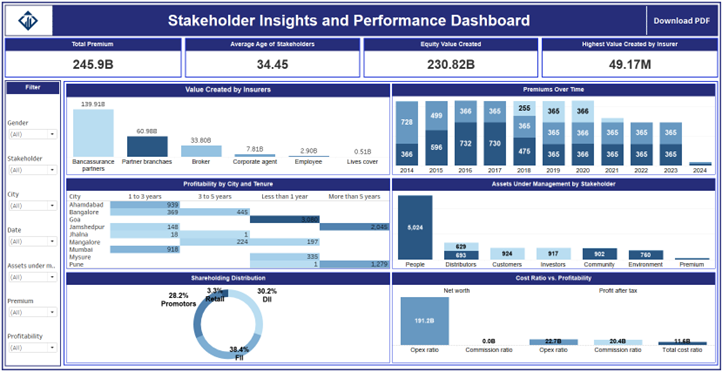

The dashboard page shown, as its layout file describes it:
{"tool":"tableau","page":{"name":"Stakeholder Insights and Performance Dashboard","canvas":[1000,1000],"units":"permille","ordinal":0},"visuals":[{"type":"image","param":"Image/Picture1.jpg","box":[10.3,21.2,72.4,79.9]},{"type":"text","box":[82.7,21.2,808.1,79.9]},{"type":"dashboard-object","box":[890.8,21.2,99,79.9]},{"type":"worksheet","title":"Total Premium","mark":"Automatic","box":[9.1,103.6,245.6,116.1]},{"type":"worksheet","title":"Average Age of Stakeholders","mark":"Automatic","box":[254.7,103.6,245.6,116.1]},{"type":"worksheet","title":"Equity Value Created","mark":"Automatic","box":[500.3,103.6,245.6,116.1]},{"type":"worksheet","title":"Highest Value Created by insurer","mark":"Automatic","box":[745.9,103.6,245,116.1]},{"type":"worksheet","title":"Filter","mark":"Automatic","box":[10.3,224.7,66.4,107.4]},{"type":"worksheet","title":"Value Created by Insurers ","mark":"Automatic","rows":["Value Created"],"cols":["Insurer"],"box":[82.7,227.2,452.6,268.4]},{"type":"worksheet","title":"Premiums Over Time","mark":"Bar","rows":["Date"],"cols":["Premium 1"],"box":[535.3,227.2,452,268.4]},{"type":"filter","title":"Filter","param":"[federated.1w5zwtn1e8jzkp101p4g912rpfut].[none:Assets under management:nk]","box":[10.3,332.1,66.4,107.4]},{"type":"filter","title":"Filter","param":"[federated.1w5zwtn1e8jzkp101p4g912rpfut].[none:Stakeholder:nk]","box":[10.3,439.4,66.4,107.4]},{"type":"worksheet","title":"Profitability by City and Tenure","mark":"Square","rows":["City"],"cols":["Policy tenuer"],"box":[82.7,501.9,452.6,250.9]},{"type":"worksheet","title":"Assets Under Management by Stakeholder","mark":"Automatic","rows":["Assets under management"],"cols":["Stakeholder"],"box":[535.3,501.9,452,250.9]},{"type":"filter","title":"Filter","param":"[federated.1w5zwtn1e8jzkp101p4g912rpfut].[none:Gender:nk]","box":[10.3,546.8,66.4,107.4]},{"type":"filter","title":"Filter","param":"[federated.1w5zwtn1e8jzkp101p4g912rpfut].[my:Date:ok]","box":[10.3,654.2,66.4,107.4]},{"type":"worksheet","title":"Shareholding Distribution","mark":"Pie","rows":["Calculation_334673798873460736","Calculation_334673798873460736"],"box":[82.7,757.8,452.6,216]},{"type":"worksheet","title":"Cost Ratio vs. Profitability","mark":"Automatic","rows":["Value Created"],"cols":["Profitability","Cost ratio"],"box":[535.3,757.8,452,216]},{"type":"filter","title":"Filter","param":"[federated.1w5zwtn1e8jzkp101p4g912rpfut].[none:Premium 1:nk]","box":[10.3,761.6,66.4,107.4]},{"type":"filter","title":"Filter","param":"[federated.1w5zwtn1e8jzkp101p4g912rpfut].[none:Profitability:nk]","box":[10.3,868.9,66.4,107.4]}]}

Visuals, with their boxes on the dashboard's canvas, which has no fixed pixel size, in thousandths of its width and height (x1, y1, x2, y2). These are canvas units, not pixel positions in the 722x372 screenshot, which may show the page scaled, cropped or inside an application window:
image: (10, 21, 83, 101)
text: (83, 21, 891, 101)
dashboard-object: (891, 21, 990, 101)
"Total Premium" worksheet: (9, 104, 255, 220)
"Average Age of Stakeholders" worksheet: (255, 104, 500, 220)
"Equity Value Created" worksheet: (500, 104, 746, 220)
"Highest Value Created by insurer" worksheet: (746, 104, 991, 220)
"Filter" worksheet: (10, 225, 77, 332)
"Value Created by Insurers " worksheet: (83, 227, 535, 496)
"Premiums Over Time" worksheet (Bar marks): (535, 227, 987, 496)
"Filter" filter: (10, 332, 77, 440)
"Filter" filter: (10, 439, 77, 547)
"Profitability by City and Tenure" worksheet (Square marks): (83, 502, 535, 753)
"Assets Under Management by Stakeholder" worksheet: (535, 502, 987, 753)
"Filter" filter: (10, 547, 77, 654)
"Filter" filter: (10, 654, 77, 762)
"Shareholding Distribution" worksheet (Pie marks): (83, 758, 535, 974)
"Cost Ratio vs. Profitability" worksheet: (535, 758, 987, 974)
"Filter" filter: (10, 762, 77, 869)
"Filter" filter: (10, 869, 77, 976)
